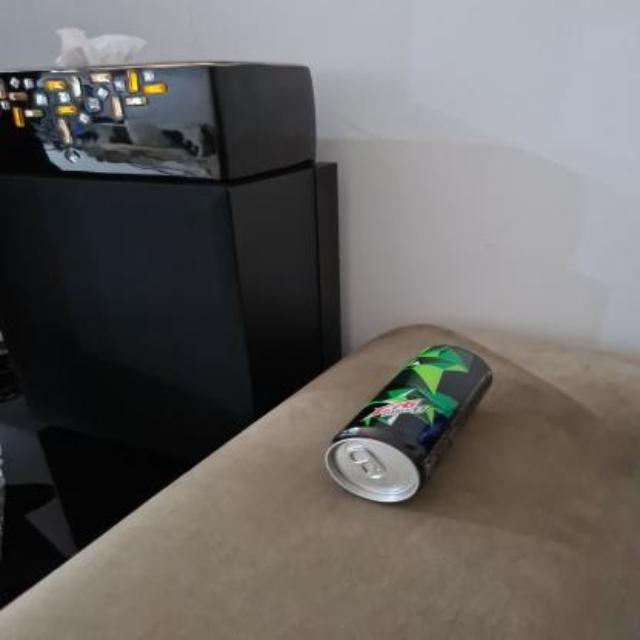metal: (323, 343, 489, 500)
